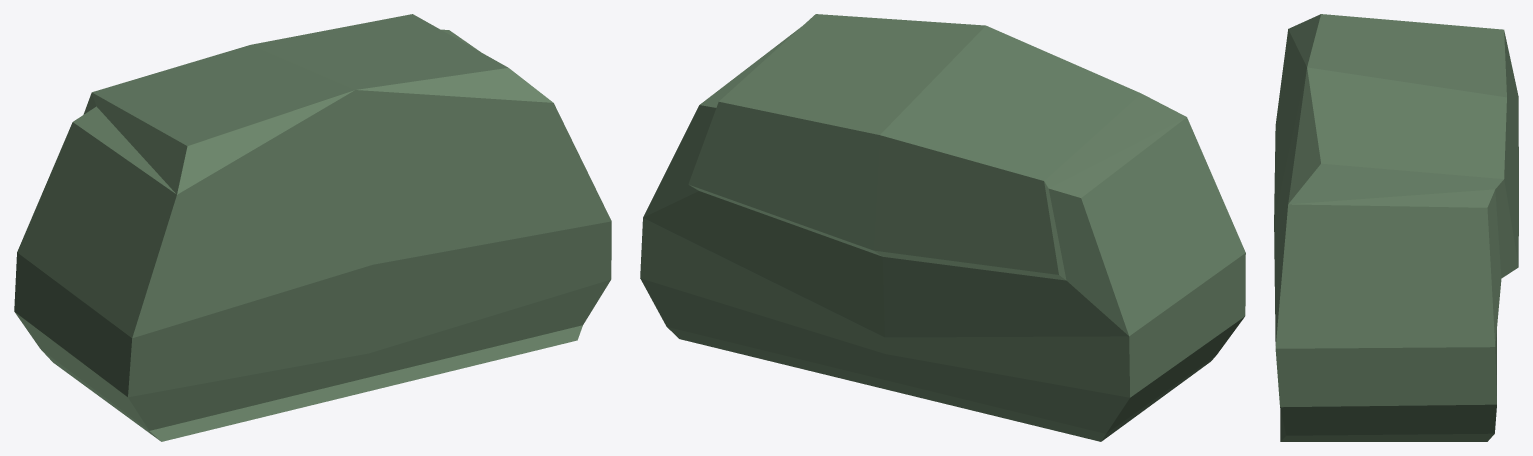
File: basu.fbx
3 views of the same model, side by side, from view 1: azimuth 30°, elevation 25°; view 2: azimuth 150°, elevation 25°; view 3: azimuth 270°, elevation 25° (orthographic). The views are drawn at different scales.
Parts seen in each view (by area): view 1: Basurero; view 2: Basurero; view 3: Basurero.
Part boxes in pixels (x1,y1,x2,y2): Basurero: (14, 14, 611, 441); Basurero: (640, 14, 1245, 441); Basurero: (1274, 14, 1518, 441).
Size of the model in its own units: 361 by 207 by 166.
